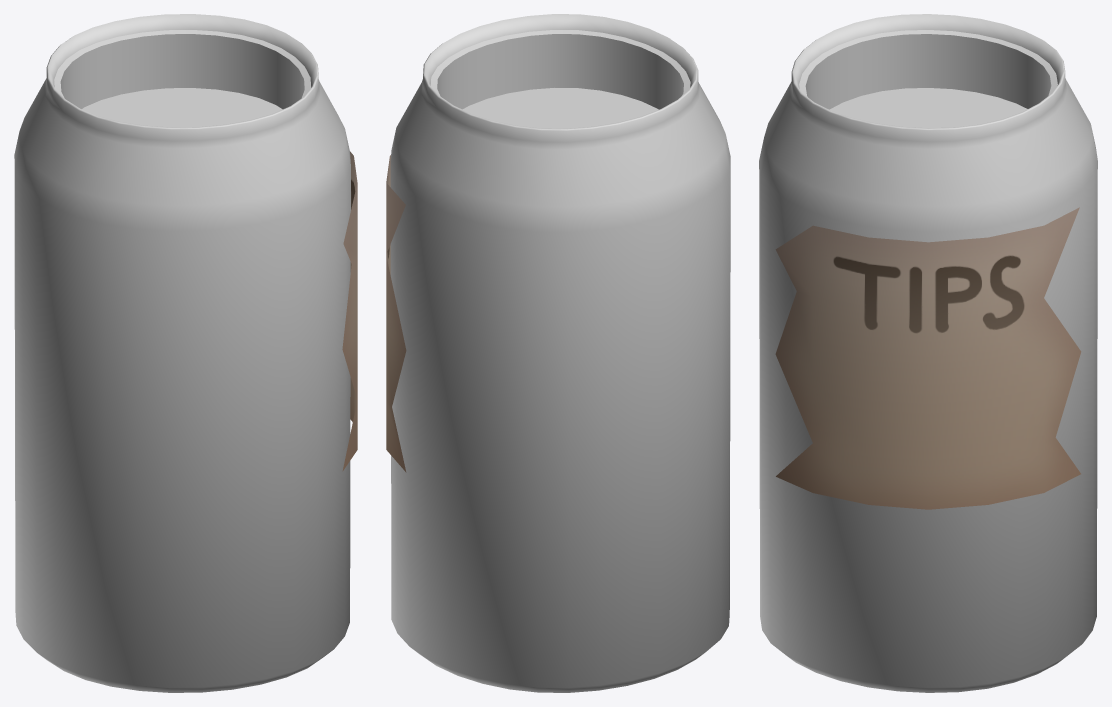
File: Tips_2.fbx
3 views of the same model, side by side, from view 1: azimuth 30°, elevation 25°; view 2: azimuth 150°, elevation 25°; view 3: azimuth 270°, elevation 25° (orthographic).
Parts seen in each view (by area): view 1: pepsi, Cylinder.001; view 2: pepsi, Cylinder.001; view 3: pepsi, Cylinder.001.
Part boxes in pixels (x1,y1,x2,y2): pepsi: (14, 14, 350, 692); Cylinder.001: (342, 151, 357, 471); pepsi: (390, 14, 730, 692); Cylinder.001: (386, 155, 406, 472); pepsi: (759, 14, 1097, 692); Cylinder.001: (775, 207, 1081, 509).
Bounding box in the file's own units: 0.7014 × 1.25 × 0.6912.
